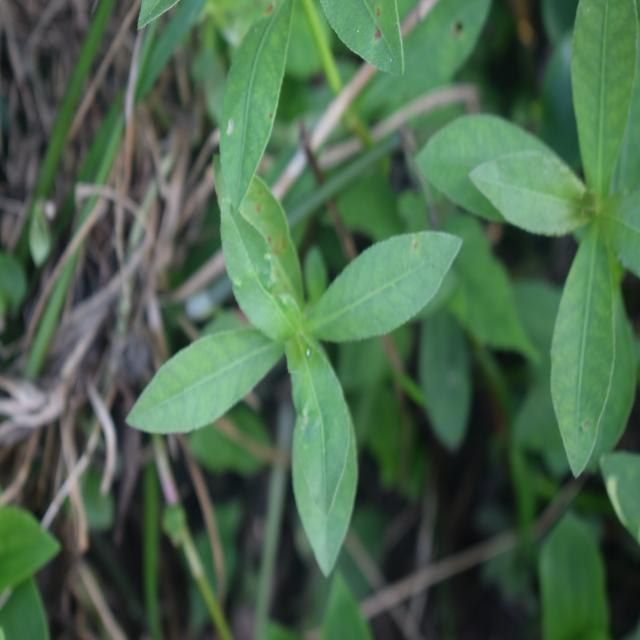Alligatorweed: (176, 165, 451, 547)
